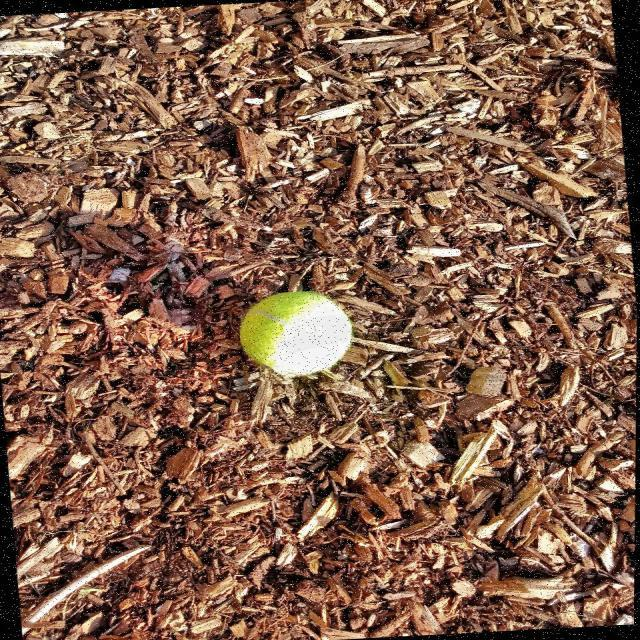tennis-ball: (237, 288, 368, 382)
